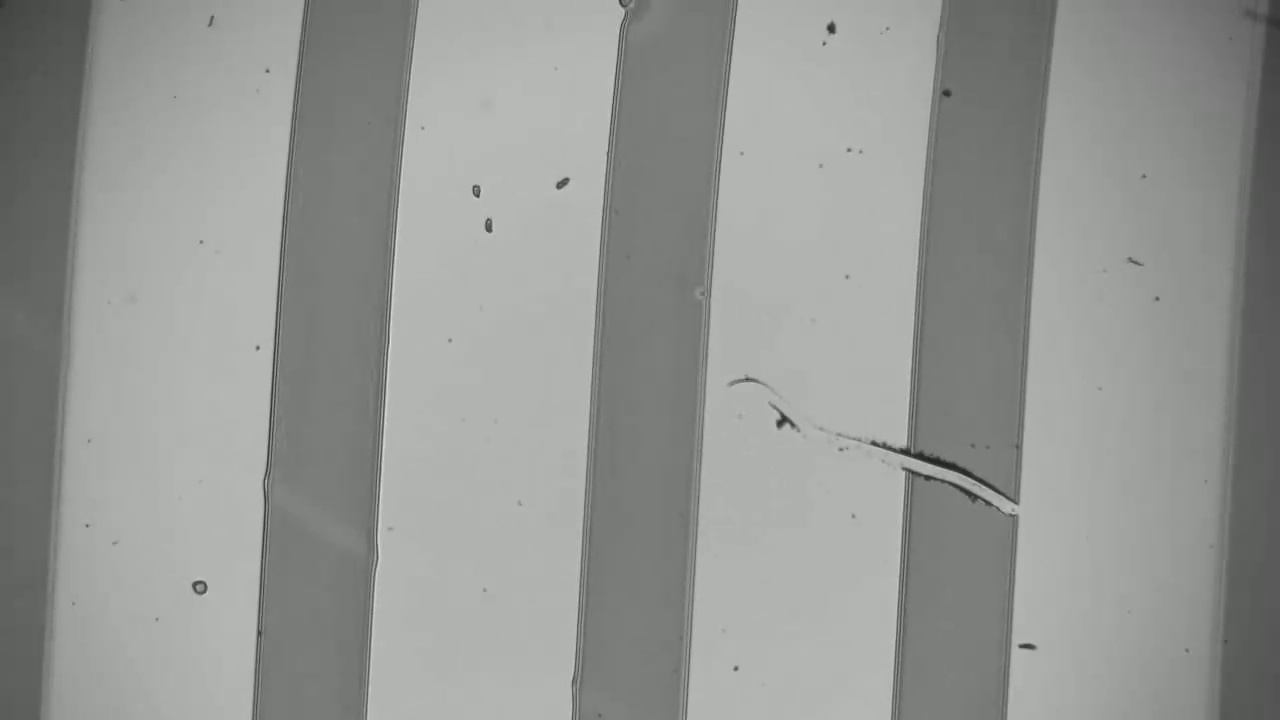Short_circuit: (877, 425, 1063, 545)
